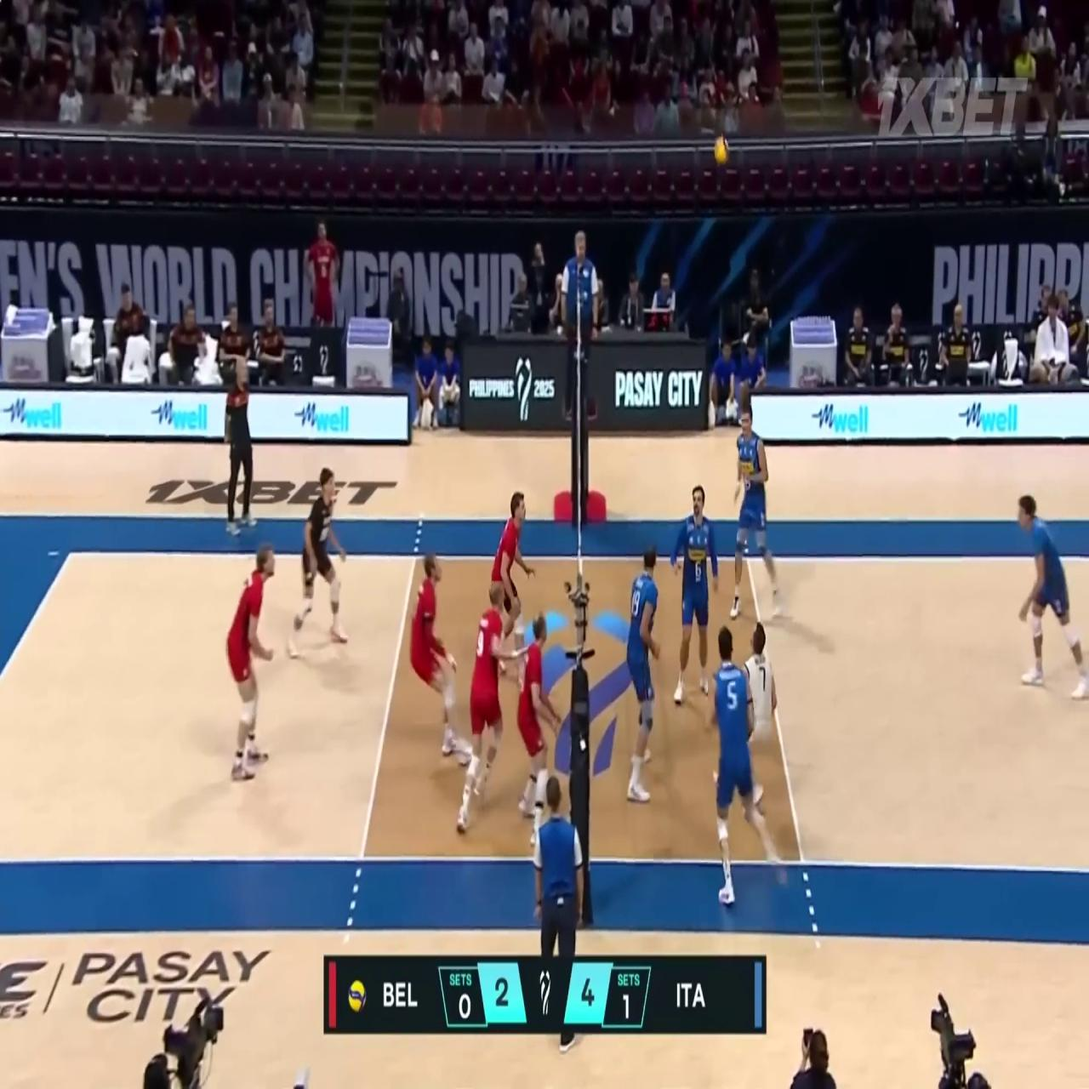ball: (714, 135, 729, 166)
